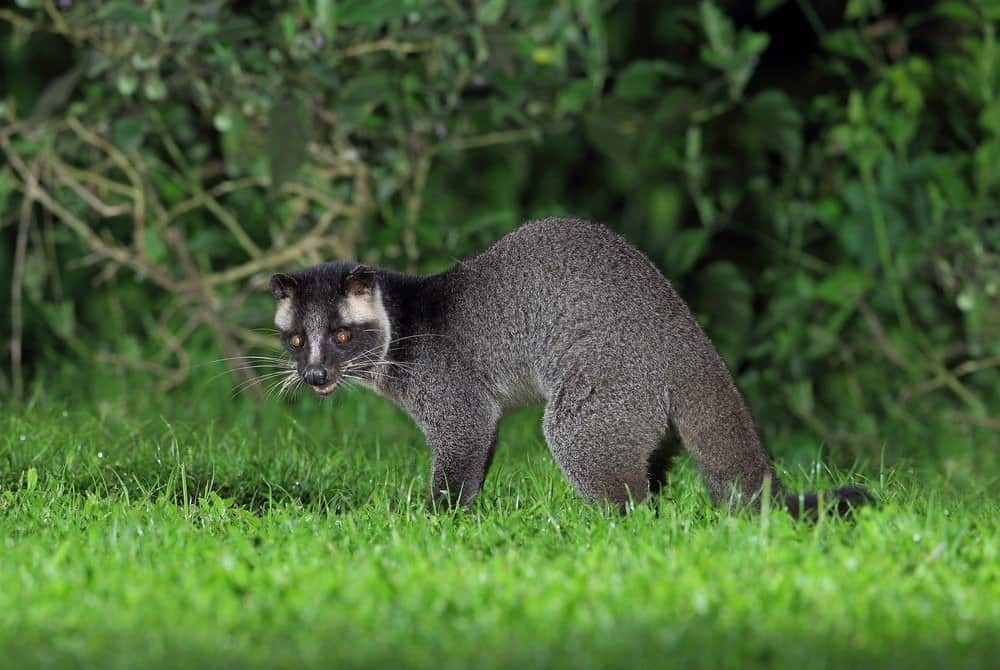Civet: (245, 208, 790, 530)
